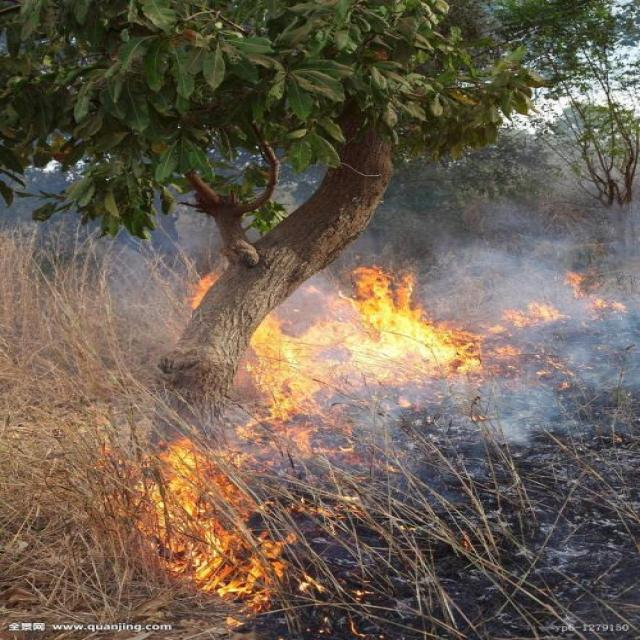Fire: (131, 264, 628, 614)
